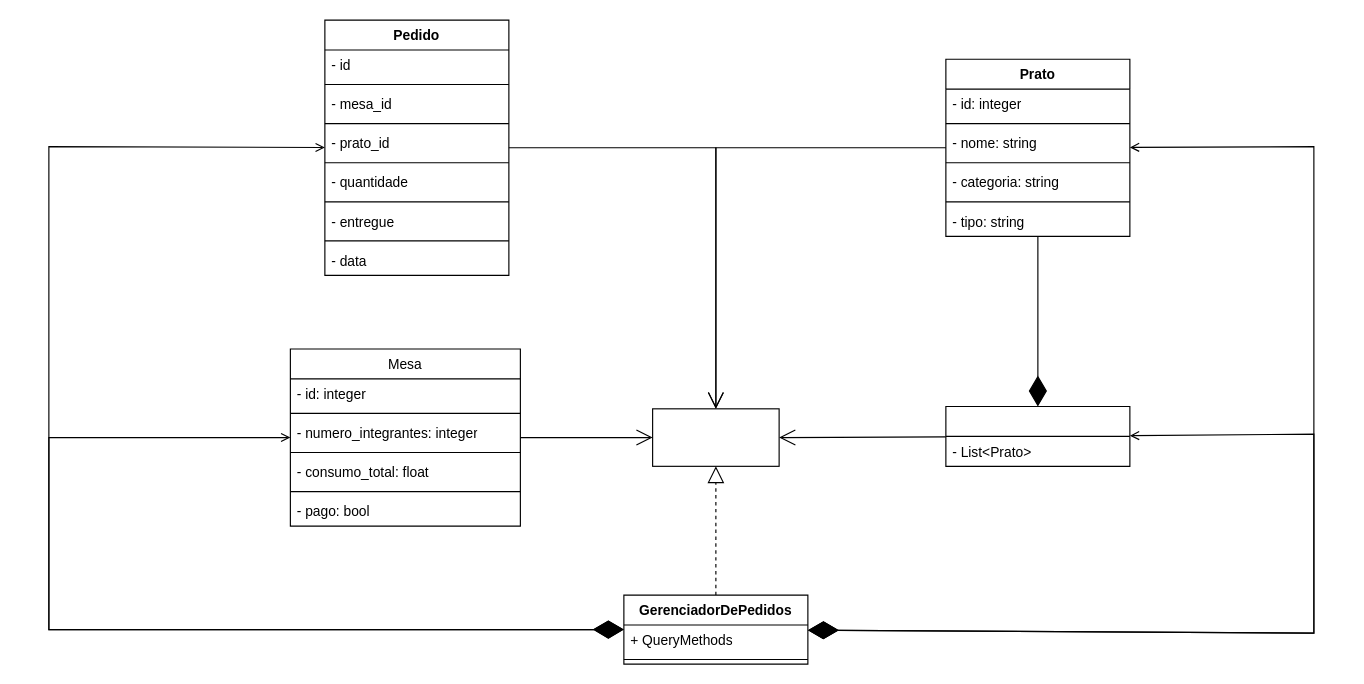
Image size: 1364x684. Some labels were removed from this diagram. Here are the shapes that lost their labels. From the top down, the box of each, then its label:
(651, 408, 779, 466): «interface» Mediador
(945, 405, 1130, 466): Cardapio
